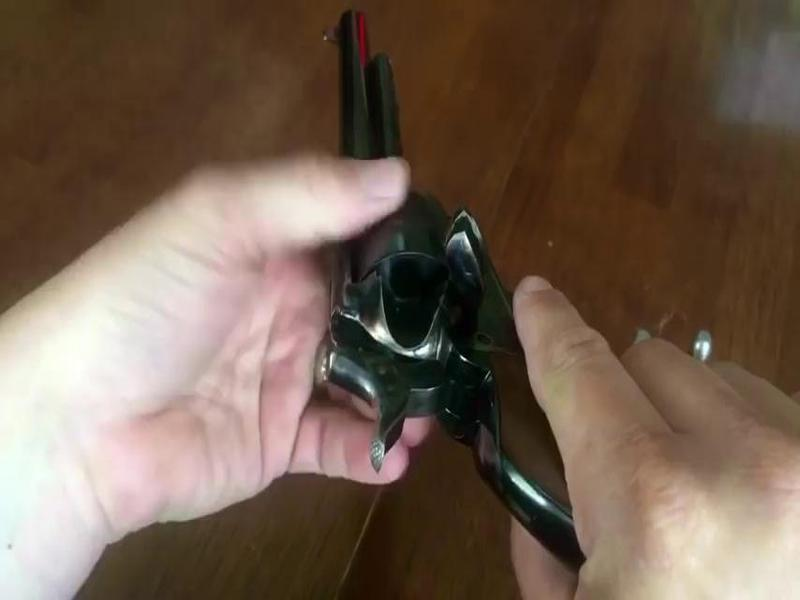Revolver: (297, 18, 563, 548)
